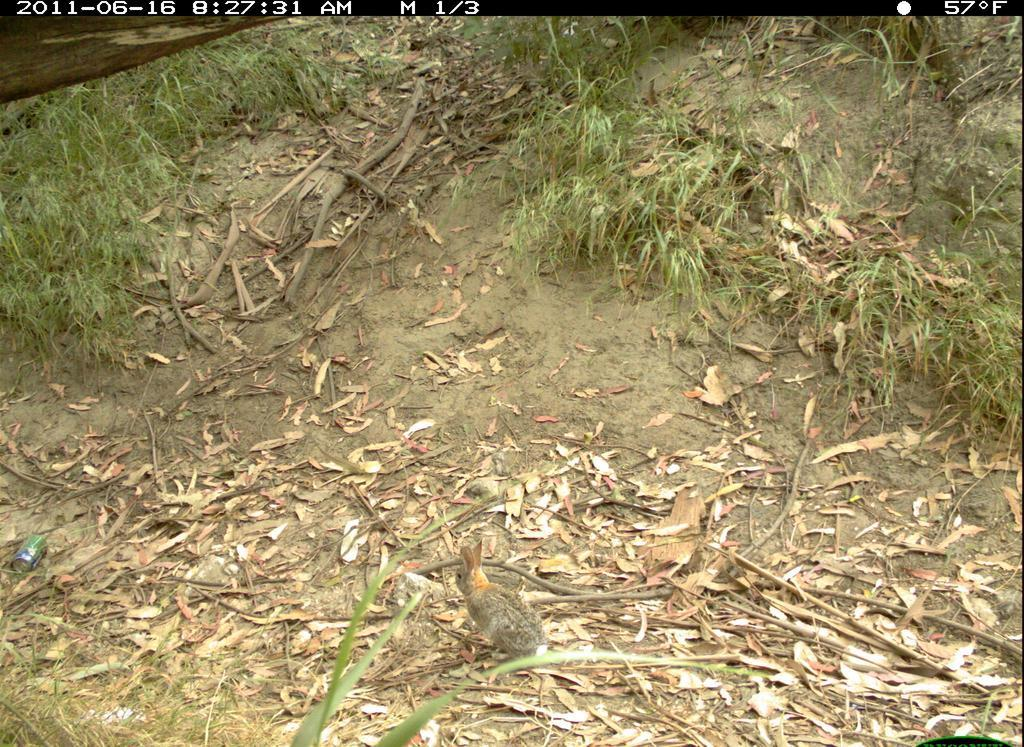rabbit: (446, 537, 568, 666)
